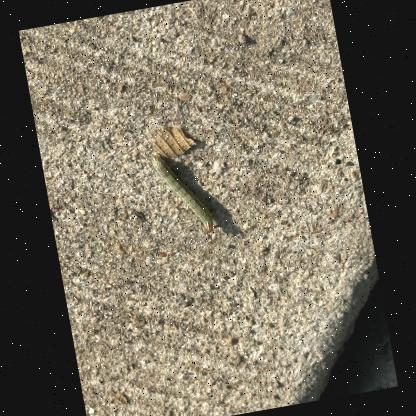Fall Armyworm Larvae: (148, 144, 220, 242)
